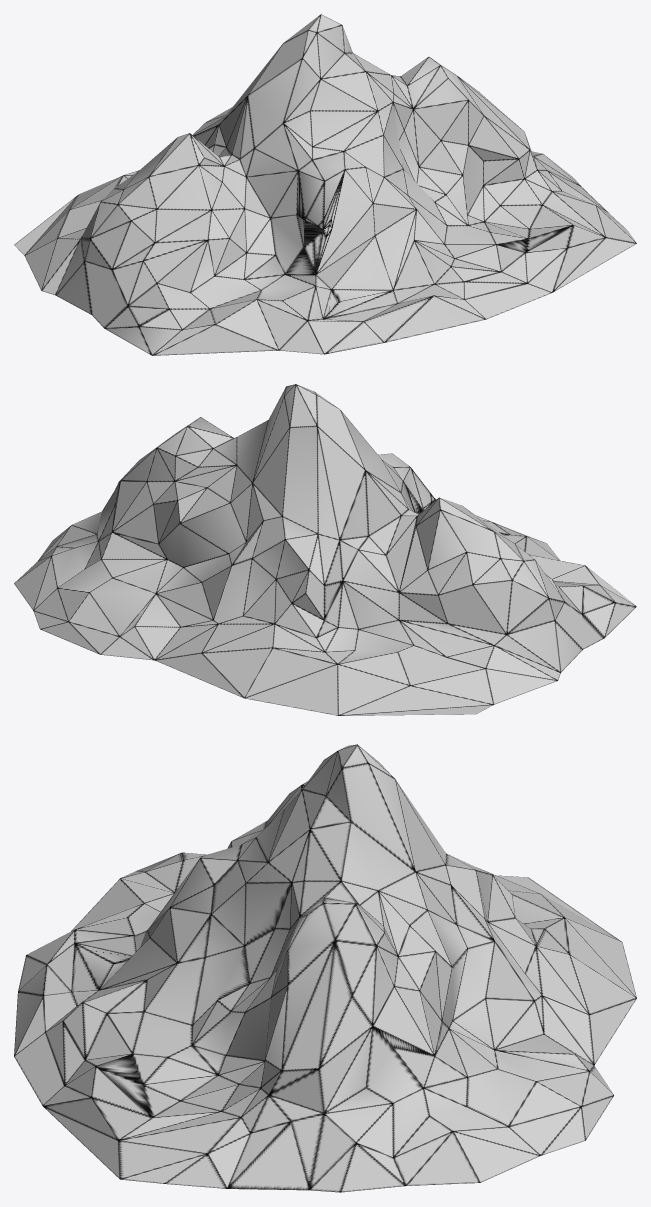
Rendered from Low_Poly_Mountain1.fbx.
3 views of the same model, one above another, from view 1: azimuth 30°, elevation 25°; view 2: azimuth 150°, elevation 25°; view 3: azimuth 270°, elevation 25° (orthographic). The views are drawn at different scales.
Visible parts, largest first — view 1: SM_Env_Hill_04.001; view 2: SM_Env_Hill_04.001; view 3: SM_Env_Hill_04.001.
Boxes of the visible parts, box(x1,y1,x2,y2) form: SM_Env_Hill_04.001: box(14, 14, 636, 355); SM_Env_Hill_04.001: box(14, 384, 636, 715); SM_Env_Hill_04.001: box(14, 744, 636, 1192).
Size of the model in its own units: 3527 by 1440 by 2794.
